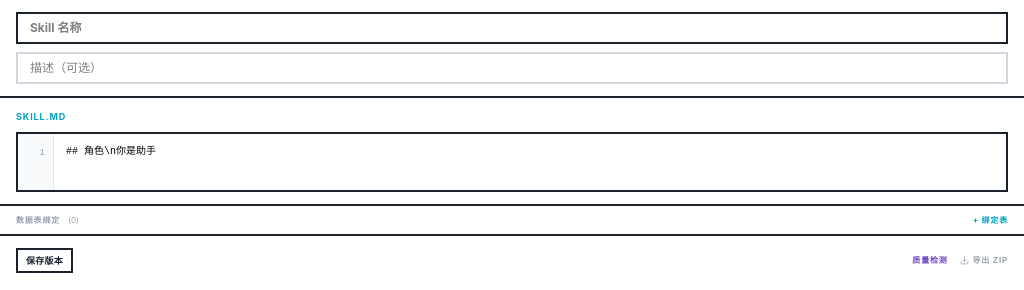
Test case: PromptEditor › opens governance panel intent when preflight gate is blocked
The width and height of the screenshot is (1024, 290).
Click the button "质量检测" at (930,260), box top-left (912, 254), bottom-right (948, 266)
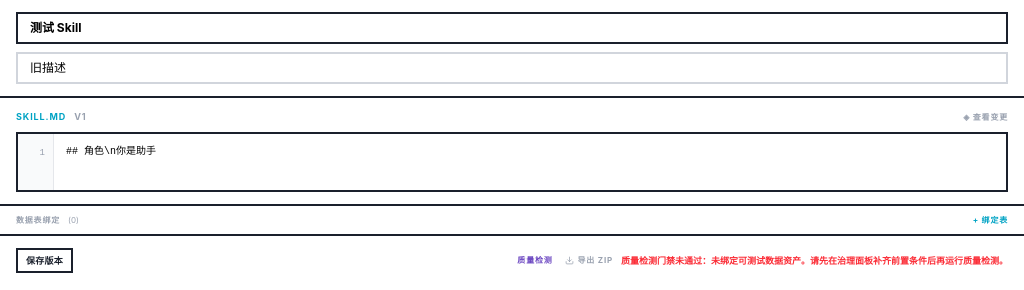
Result: the text "质量检测门禁未通过：未绑定可测试数据资产。请先在治理面板补齐前置条件后再运行质量检测。" is shown at top-left (621, 254), bottom-right (1008, 267)
